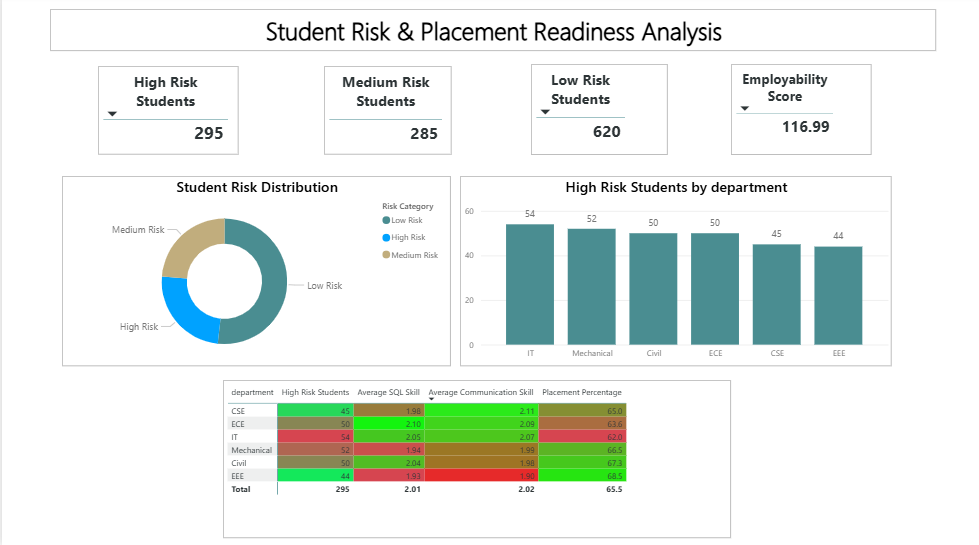

The page's visual inventory and layout, read from the dashboard file:
{"tool":"powerbi","page":{"name":"Student Risk Analysis","canvas":[1280,720],"ordinal":4},"visuals":[{"type":"tableEx","fields":{"Values":["companies.Employability Score"]},"box":[954.1,89.3,184.4,118.5],"z":0},{"type":"tableEx","fields":{"Values":["students.High Risk Students"]},"box":[125.9,92.2,184.4,115.6],"z":1000},{"type":"tableEx","fields":{"Values":["students.Low Risk Students"]},"box":[692.2,89.3,178.5,118.5],"z":2000},{"type":"tableEx","fields":{"Values":["students.Medium Risk Students"]},"box":[421.5,92.2,166.8,115.6],"z":3000},{"type":"donutChart","title":"Student Risk Distribution","fields":{"Category":["students.Risk Category"],"Y":["CountNonNull(students.student_id)"]},"box":[79,235.6,509.3,248.8],"z":4000},{"type":"clusteredColumnChart","fields":{"Y":["students.High Risk Students"],"Category":["students.department"]},"box":[600,235.6,564.9,248.8],"z":5000},{"type":"pivotTable","fields":{"Rows":["students.department"],"Values":["students.High Risk Students","skills.Average SQL Skill","skills.Average Communication Skill","placements.Placement Percentage"]},"box":[289.4,502.6,665.3,207.4],"z":6000},{"type":"textbox","box":[62.5,17.5,1160,55],"z":8000}]}

Visuals, with their boxes in screenshot pixels (x1, y1, x2, y2), scaled from the page's 1280x720 canvas onto the 979x545 screenshot:
tableEx - companies.Employability Score: (730,68,871,157)
tableEx - students.High Risk Students: (96,70,237,157)
tableEx - students.Low Risk Students: (529,68,666,157)
tableEx - students.Medium Risk Students: (322,70,450,157)
"Student Risk Distribution" donutChart: (60,178,450,367)
clusteredColumnChart - students.High Risk Students x students.department: (459,178,891,367)
pivotTable - students.department x students.High Risk Students: (221,380,730,537)
textbox: (48,13,935,55)
